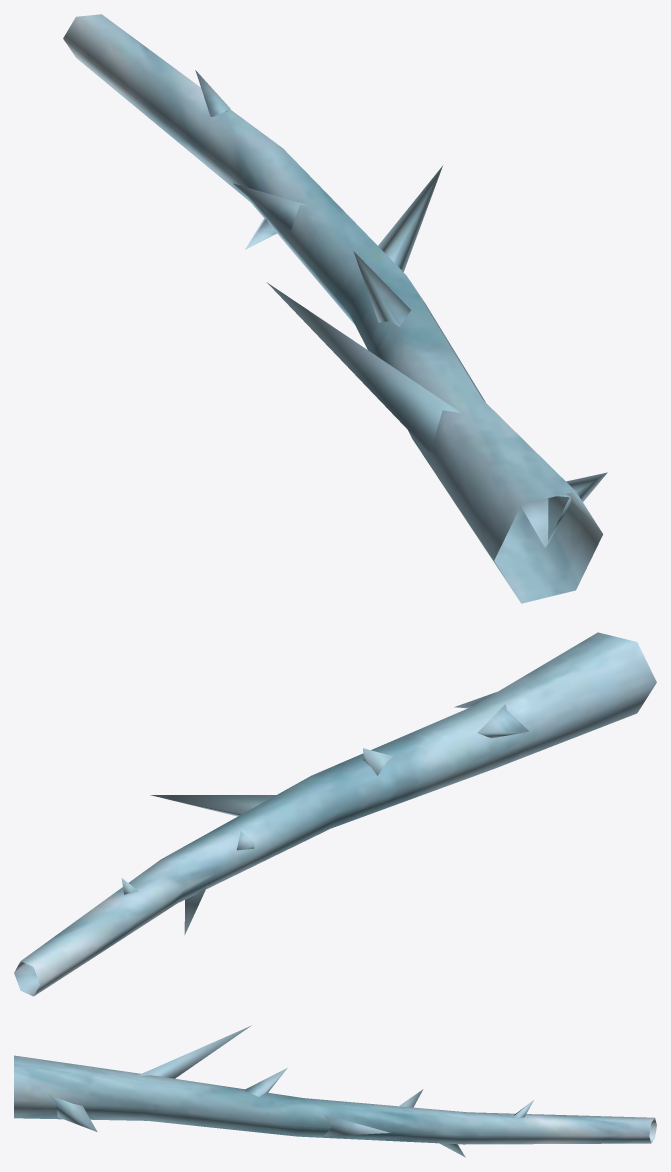
The picture shows the model from 3 angles, top to bottom: view 1: azimuth 30°, elevation 25°; view 2: azimuth 150°, elevation 25°; view 3: azimuth 270°, elevation 25°; orthographic projection. The views are drawn at different scales.
Visible parts, largest first — view 1: Object24; view 2: Object24; view 3: Object24.
Part boxes in pixels (left/top/right/bottom): Object24: left=63, top=14, right=607, bottom=603; Object24: left=14, top=632, right=656, bottom=996; Object24: left=14, top=1025, right=656, bottom=1157.
Size of the model in its own units: 17947 by 9013 by 61269.
